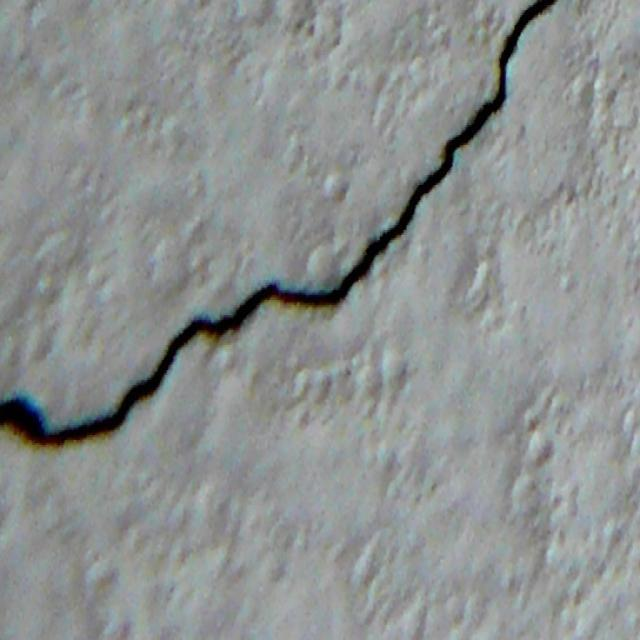Diagonal: (0, 0, 561, 459)
